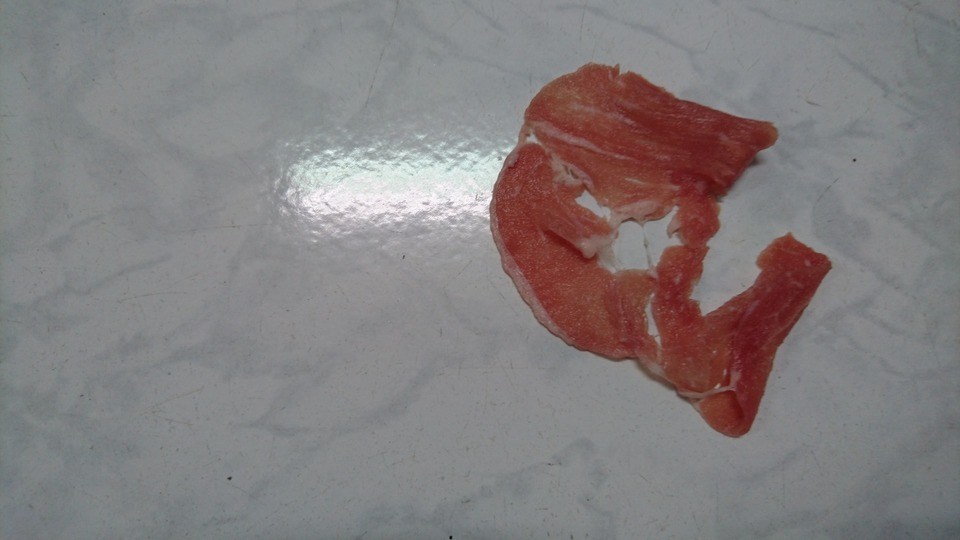restructured meat: (465, 59, 833, 442)
